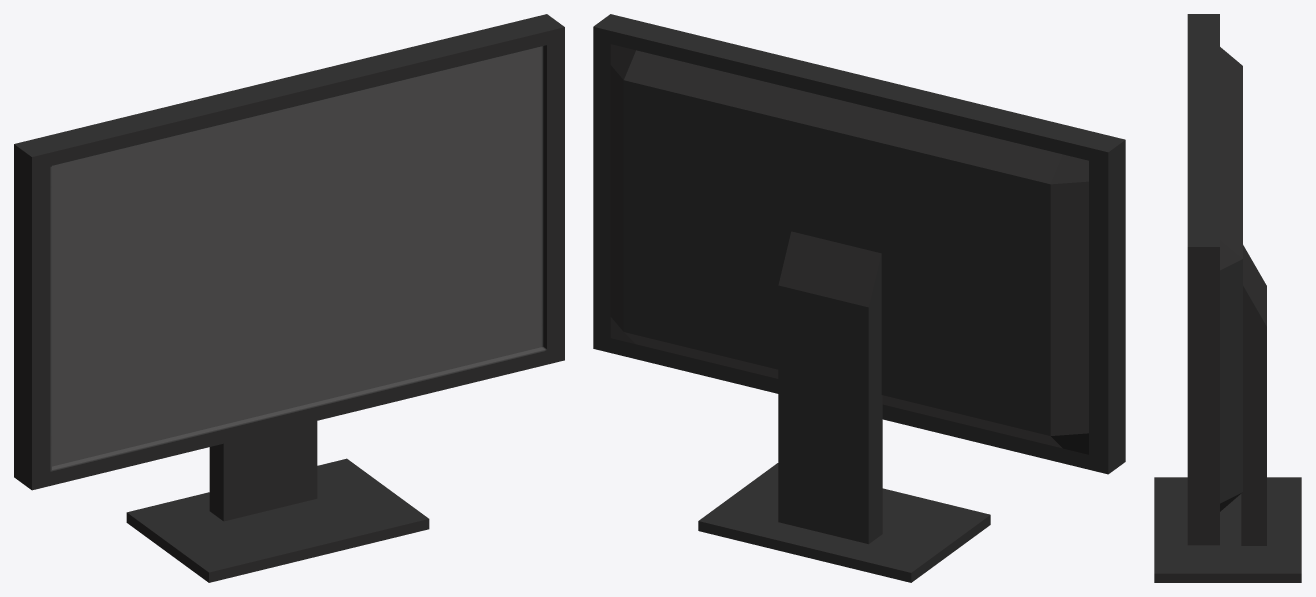
File: monitor.fbx
3 views of the same model, side by side, from view 1: azimuth 30°, elevation 25°; view 2: azimuth 150°, elevation 25°; view 3: azimuth 270°, elevation 25° (orthographic). The views are drawn at different scales.
Parts seen in each view (by area): view 1: Cube, Cube.002, Cube.001; view 2: Cube, Cube.001, Cube.002; view 3: Cube, Cube.002, Cube.001.
Boxes of the visible parts, x1=… form: Cube: x1=14, y1=14, x2=564, y2=490; Cube.002: x1=126, y1=458, x2=429, y2=582; Cube.001: x1=209, y1=421, x2=317, y2=521; Cube: x1=593, y1=14, x2=1125, y2=474; Cube.001: x1=778, y1=231, x2=882, y2=544; Cube.002: x1=698, y1=463, x2=990, y2=582; Cube: x1=1187, y1=14, x2=1242, y2=545; Cube.002: x1=1154, y1=477, x2=1301, y2=582; Cube.001: x1=1241, y1=245, x2=1266, y2=545.
Size of the model in its own units: 484 by 391 by 129.
3 materials, 3 textured.
